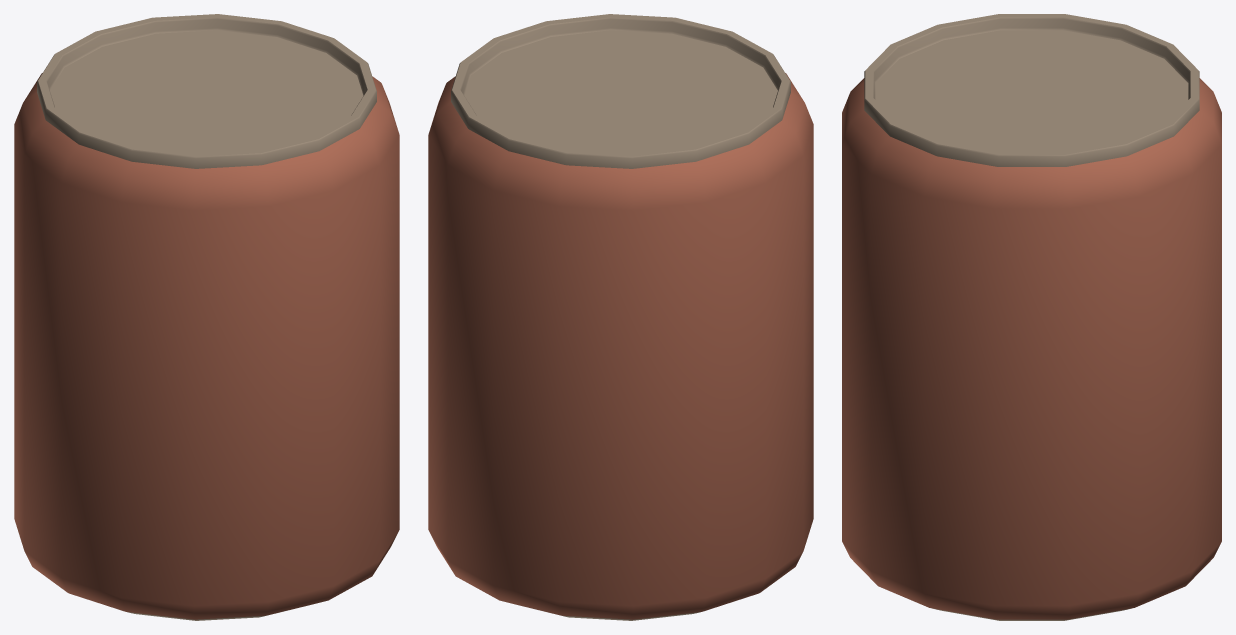
File: Mesh_Canette_01.fbx
3 renders of one model, left to right at view 1: azimuth 30°, elevation 25°; view 2: azimuth 150°, elevation 25°; view 3: azimuth 270°, elevation 25°, orthographic.
Parts seen in each view (by area): view 1: Mesh_Canette_01; view 2: Mesh_Canette_01; view 3: Mesh_Canette_01.
Part boxes in pixels (box(x1,y1,x2,y2)): Mesh_Canette_01: box(14, 14, 399, 620); Mesh_Canette_01: box(428, 14, 813, 620); Mesh_Canette_01: box(842, 14, 1221, 620).
Size of the model in its own units: 9.78 by 13.32 by 9.78.
